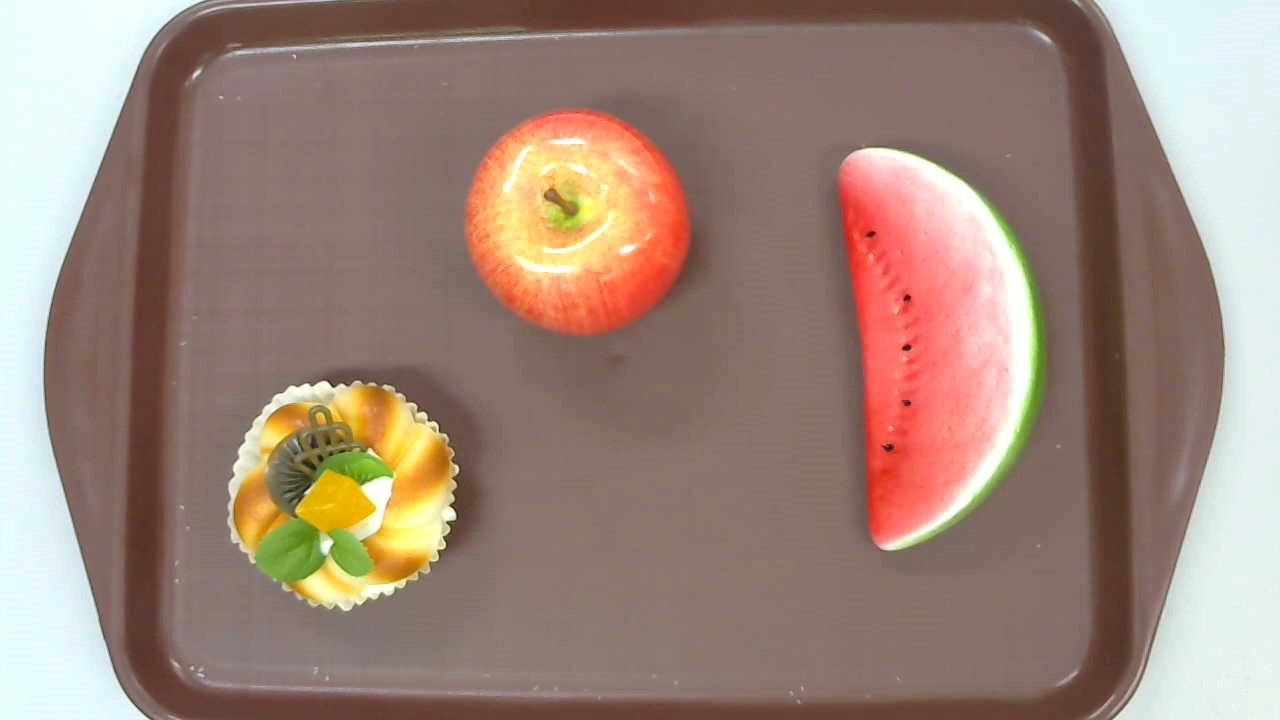fruit tart: (227, 379, 460, 611)
red apple: (464, 109, 691, 337)
water melon: (837, 146, 1048, 553)
